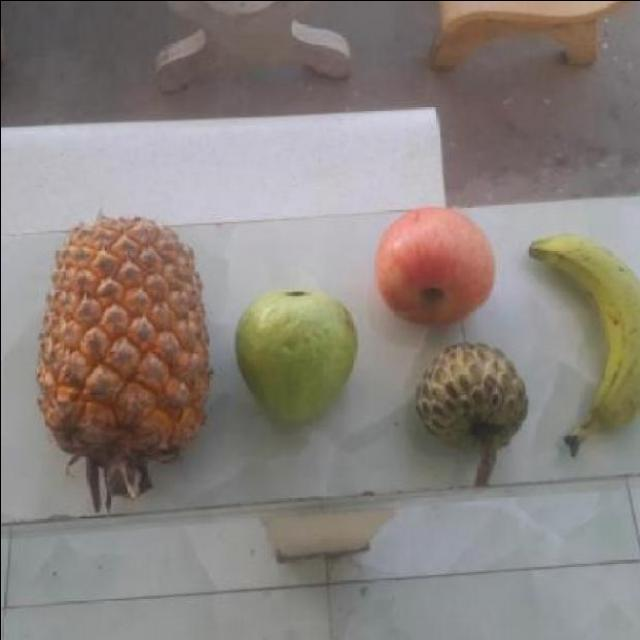apple: (370, 207, 498, 327)
banana: (521, 238, 640, 448)
guava: (227, 286, 351, 418)
pineapple: (34, 216, 208, 466)
sugar apple: (412, 342, 528, 467)
